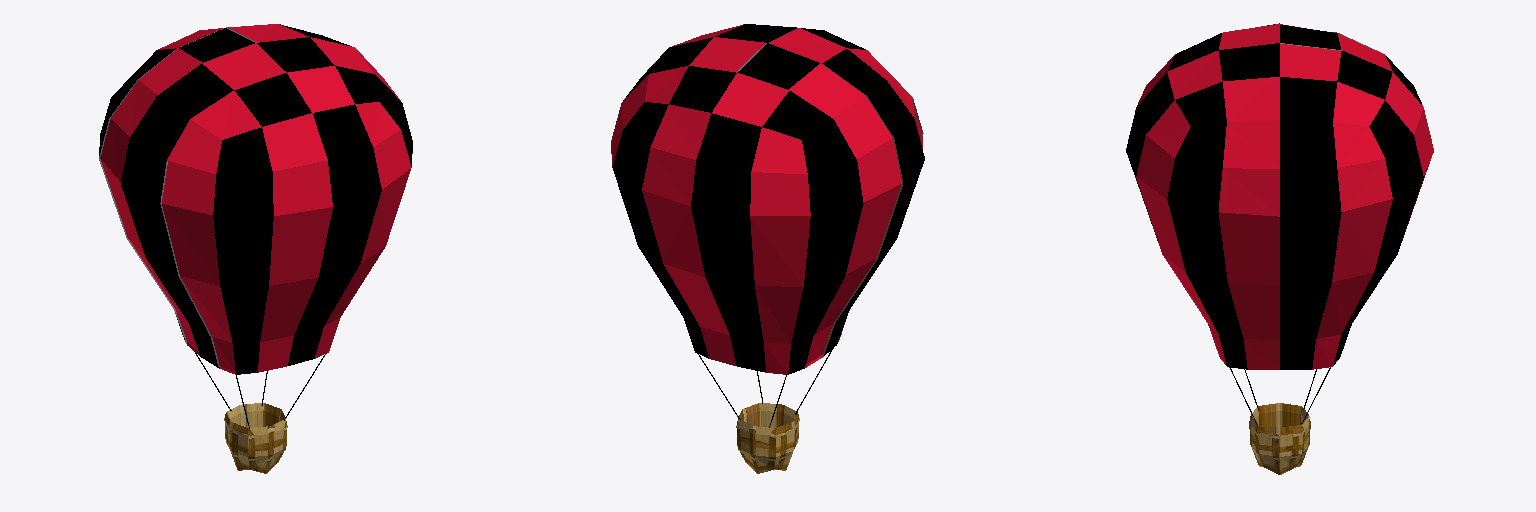
3 renders of one model, left to right at view 1: azimuth 30°, elevation 25°; view 2: azimuth 150°, elevation 25°; view 3: azimuth 270°, elevation 25°, orthographic.
Visible parts, largest first — view 1: pCube3, pCube1; view 2: pCube3, pCube1; view 3: pCube3, pCube1.
Part boxes in pixels (x1,y1,x2,y2): pCube3: (99,24,412,374); pCube1: (224,403,287,473); pCube3: (611,24,924,374); pCube1: (736,403,799,473); pCube3: (1126,23,1433,369); pCube1: (1249,403,1310,474).
Size of the model in its own units: 4.86 by 7.3 by 4.79.
4 materials, 2 textured.